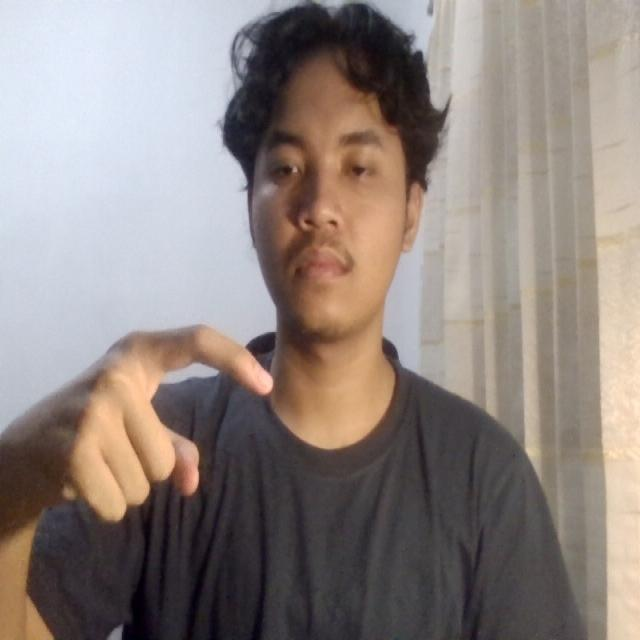N: (42, 292, 290, 544)
